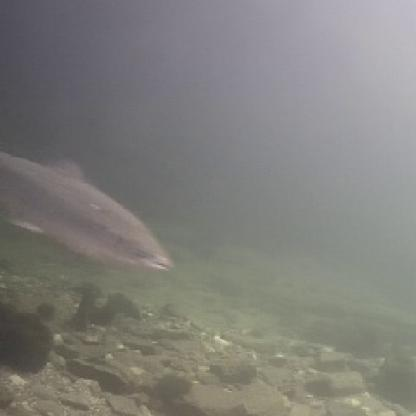salmon: (0, 148, 179, 275)
